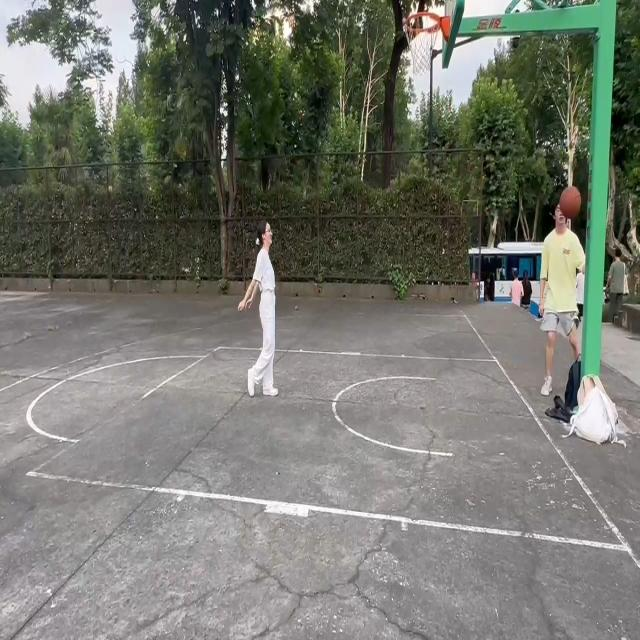basketball: (404, 11, 455, 82)
rim: (561, 185, 582, 218)
